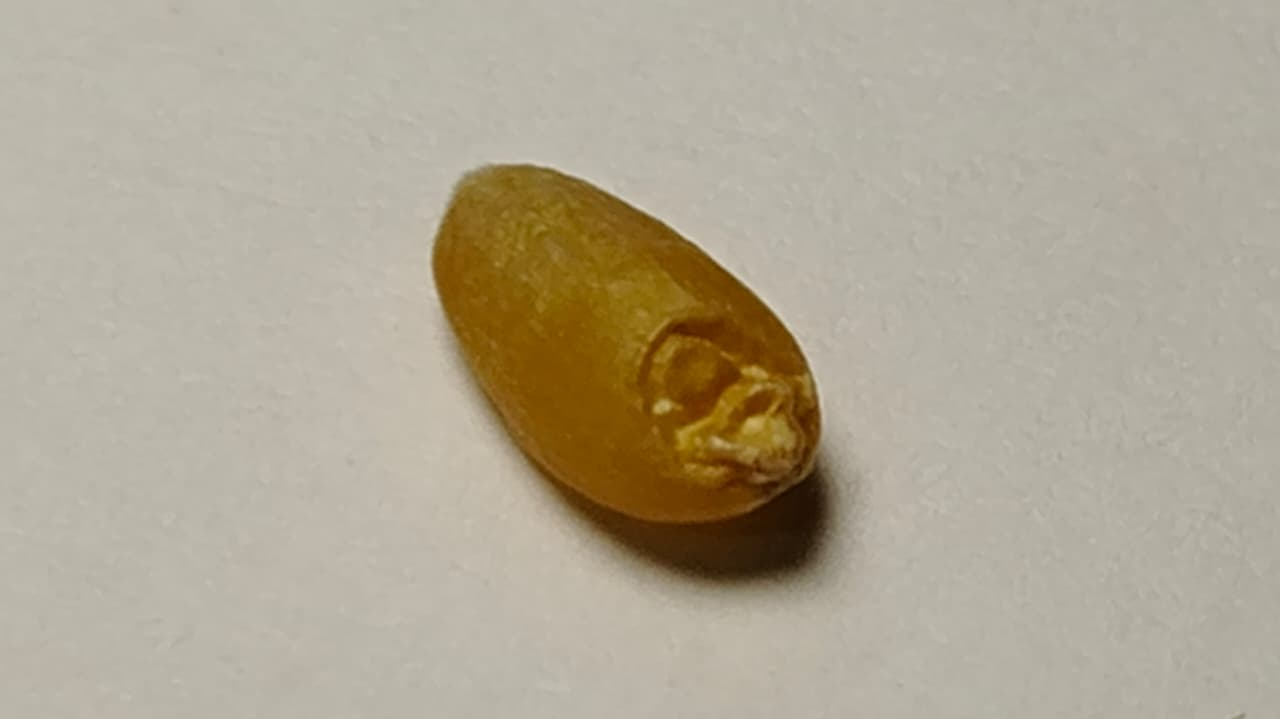healthy: (432, 165, 818, 521)
